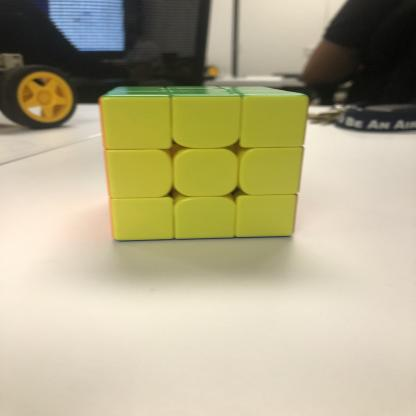SolvedCube: (87, 65, 326, 259)
